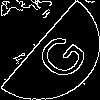G: (25, 25, 92, 84)
